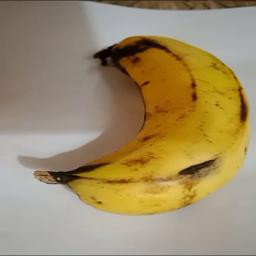Banana Semifresh: (35, 35, 252, 217)
